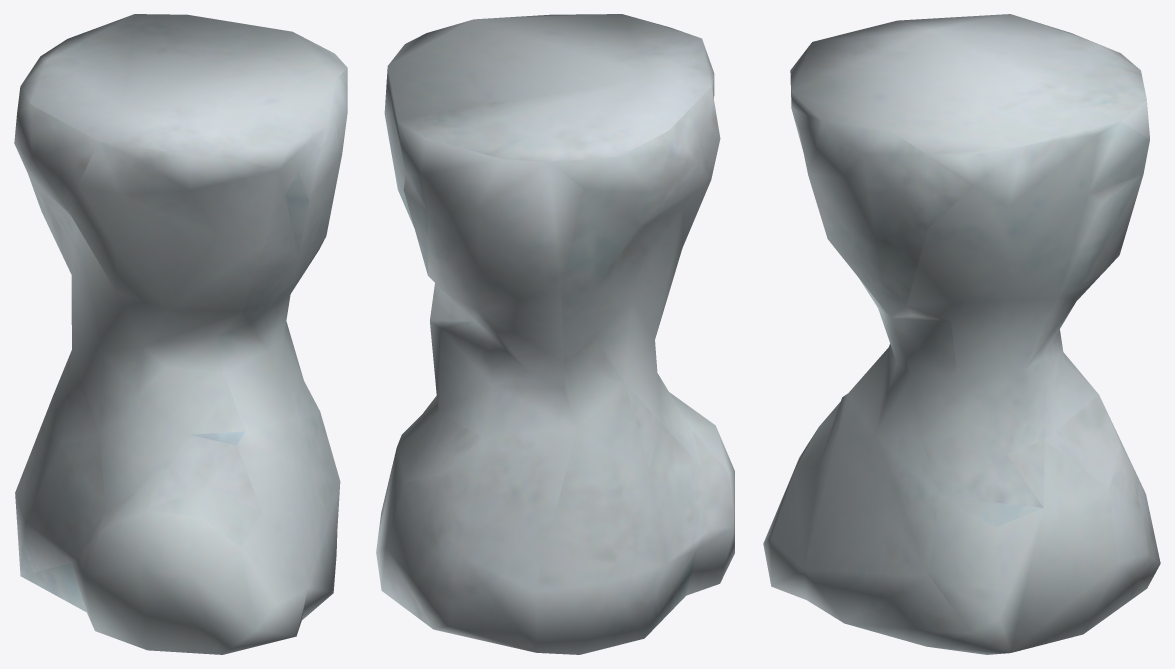
Rendered from P_PlatformClassic2.obj.
The picture shows the model from 3 angles, left to right: view 1: azimuth 30°, elevation 25°; view 2: azimuth 150°, elevation 25°; view 3: azimuth 270°, elevation 25°; orthographic projection. The views are drawn at different scales.
Size of the model in its own units: 6.36 by 10.01 by 7.04.
